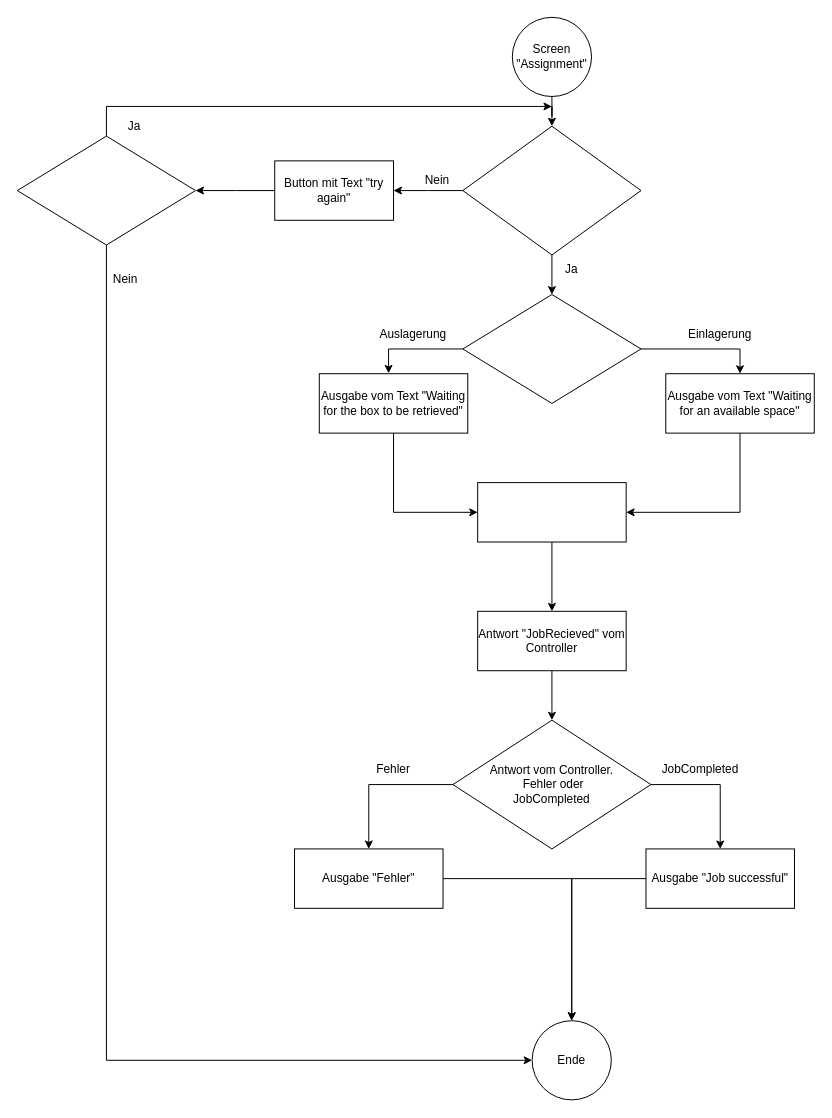
Image size: 832x1118. Some labels were removed from this diagram. Here are the shapes that lost their labels. From the top down, the centre of each, then its label:
[106,190]: Klickt die anwendende Person auf den Button?
[551,190]: Befindet sich die anwendende Person beim Fahrradturm?
[551,348]: Einlagerungs- oder Auslagerungsprozess?
[551,512]: Anfrage wird gesendet
